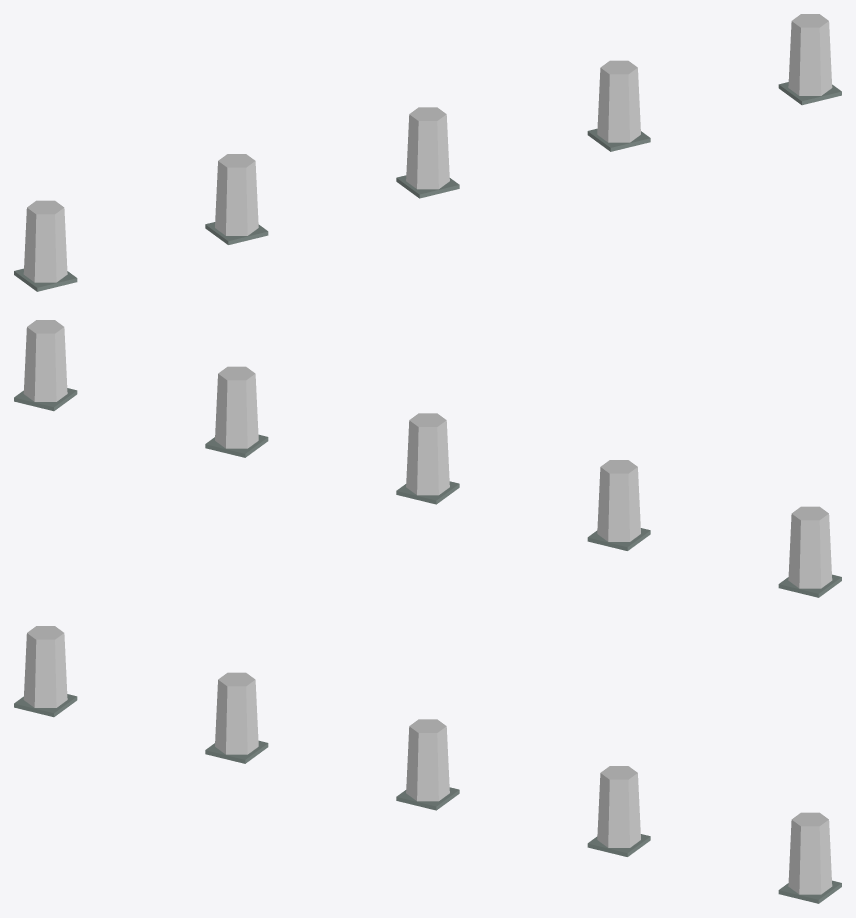
Rendered from SM_Vallas_v3_Conos_LOD1.fbx.
The picture shows the model from 3 angles, top to bottom: view 1: azimuth 30°, elevation 25°; view 2: azimuth 150°, elevation 25°; view 3: azimuth 330°, elevation 25°; orthographic projection.
Visible parts, largest first — view 1: SM_ambiente_aerodromo_v23_LOD1; view 2: SM_ambiente_aerodromo_v23_LOD1; view 3: SM_ambiente_aerodromo_v23_LOD1.
Part boxes in pixels (left/top/right/bottom): SM_ambiente_aerodromo_v23_LOD1: left=14, top=14, right=841, bottom=291; SM_ambiente_aerodromo_v23_LOD1: left=14, top=320, right=841, bottom=597; SM_ambiente_aerodromo_v23_LOD1: left=14, top=626, right=841, bottom=903.
Size of the model in its own units: 8.42 by 0.71 by 0.42.
